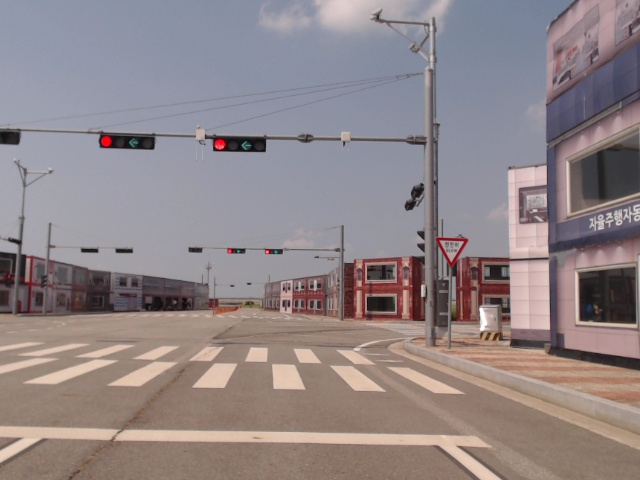left_green_4: (100, 135, 154, 150), (214, 140, 265, 151)
